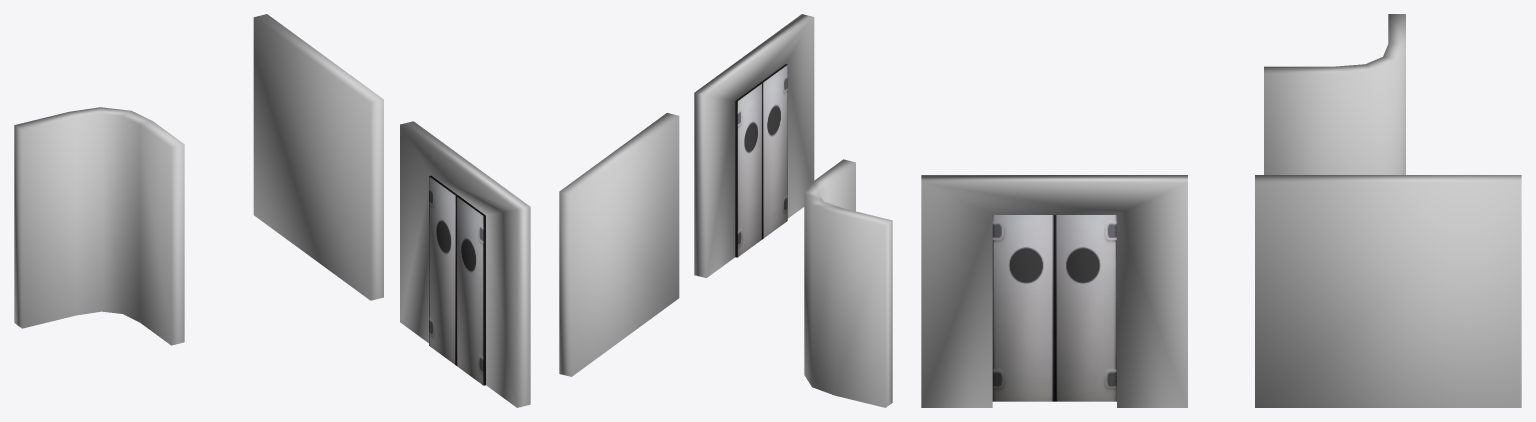
Rendered from Ofise.fbx.
The picture shows the model from 3 angles, left to right: view 1: azimuth 30°, elevation 25°; view 2: azimuth 150°, elevation 25°; view 3: azimuth 270°, elevation 25°; orthographic projection. The views are drawn at different scales.
Visible parts, largest first — view 1: Povorot, Wall, WallDoor, Door1, Door2; view 2: Wall, Povorot, WallDoor, Door2, Door1; view 3: Wall, WallDoor, Povorot, Door2, Door1.
Boxes of the visible parts, x1,y1,x2,y2 form: Povorot: [14, 107, 184, 345]; Wall: [253, 14, 383, 300]; WallDoor: [400, 121, 530, 407]; Door1: [456, 195, 485, 385]; Door2: [429, 175, 458, 365]; Wall: [559, 113, 679, 376]; Povorot: [804, 159, 892, 407]; WallDoor: [694, 14, 814, 277]; Door2: [735, 82, 762, 257]; Door1: [761, 64, 787, 238]; Wall: [1255, 175, 1521, 407]; WallDoor: [921, 175, 1187, 407]; Povorot: [1264, 14, 1405, 174]; Door2: [1054, 215, 1116, 401]; Door1: [992, 215, 1054, 401].
Bounding box in the file's own units: 449 × 280 × 676.
2 materials, 1 textured.
